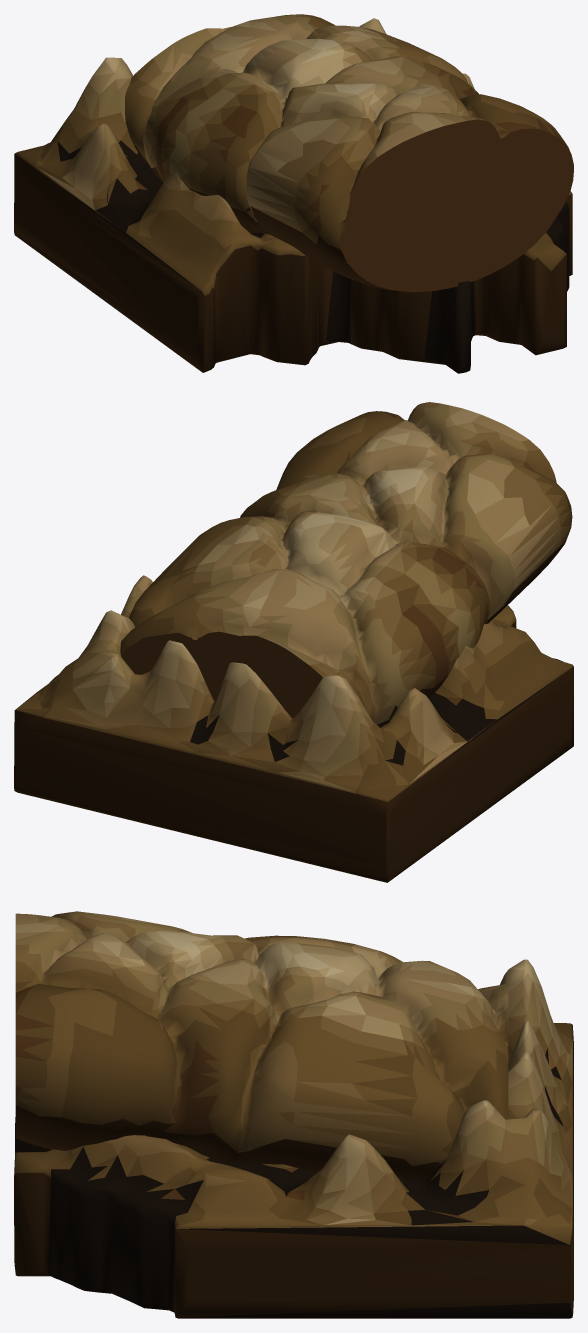
Rendered from ixm_maw_51.glb.
The picture shows the model from 3 angles, top to bottom: view 1: azimuth 30°, elevation 25°; view 2: azimuth 150°, elevation 25°; view 3: azimuth 270°, elevation 25°; orthographic projection. The views are drawn at different scales.
Visible parts, largest first — view 1: ixm_maw_51; view 2: ixm_maw_51; view 3: ixm_maw_51.
Part boxes in pixels (x1,y1,x2,y2): ixm_maw_51: [14, 14, 573, 373]; ixm_maw_51: [14, 402, 573, 882]; ixm_maw_51: [14, 911, 573, 1318].
Size of the model in its own units: 24.14 by 15.43 by 27.95.
